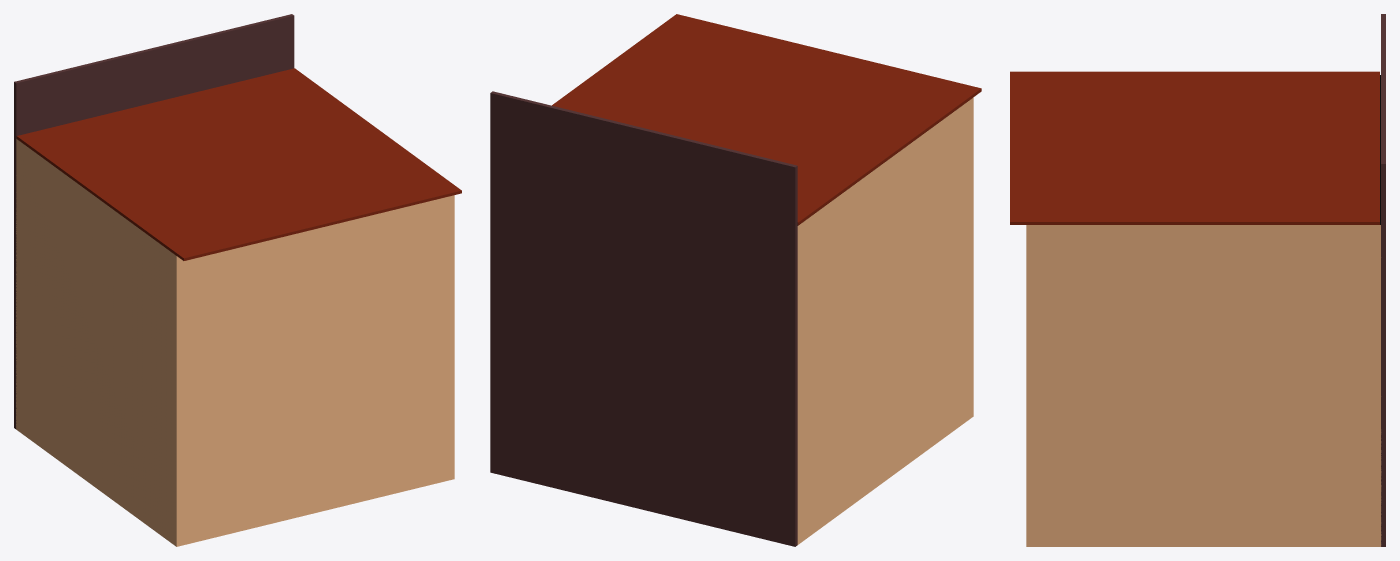
3 views of the same model, side by side, from view 1: azimuth 30°, elevation 25°; view 2: azimuth 150°, elevation 25°; view 3: azimuth 270°, elevation 25° (orthographic). The views are drawn at different scales.
Parts seen in each view (by area): view 1: Plane, Plane.001; view 2: Plane, Plane.001; view 3: Plane, Plane.001.
Boxes of the visible parts, x1,y1,x2,y2 form: Plane: (14,14,454,546); Plane.001: (16,68,461,260); Plane: (490,91,973,546); Plane.001: (552,14,981,225); Plane: (1026,14,1385,546); Plane.001: (1010,71,1379,224).
Bounding box in the file's own units: 200 × 238 × 212.
